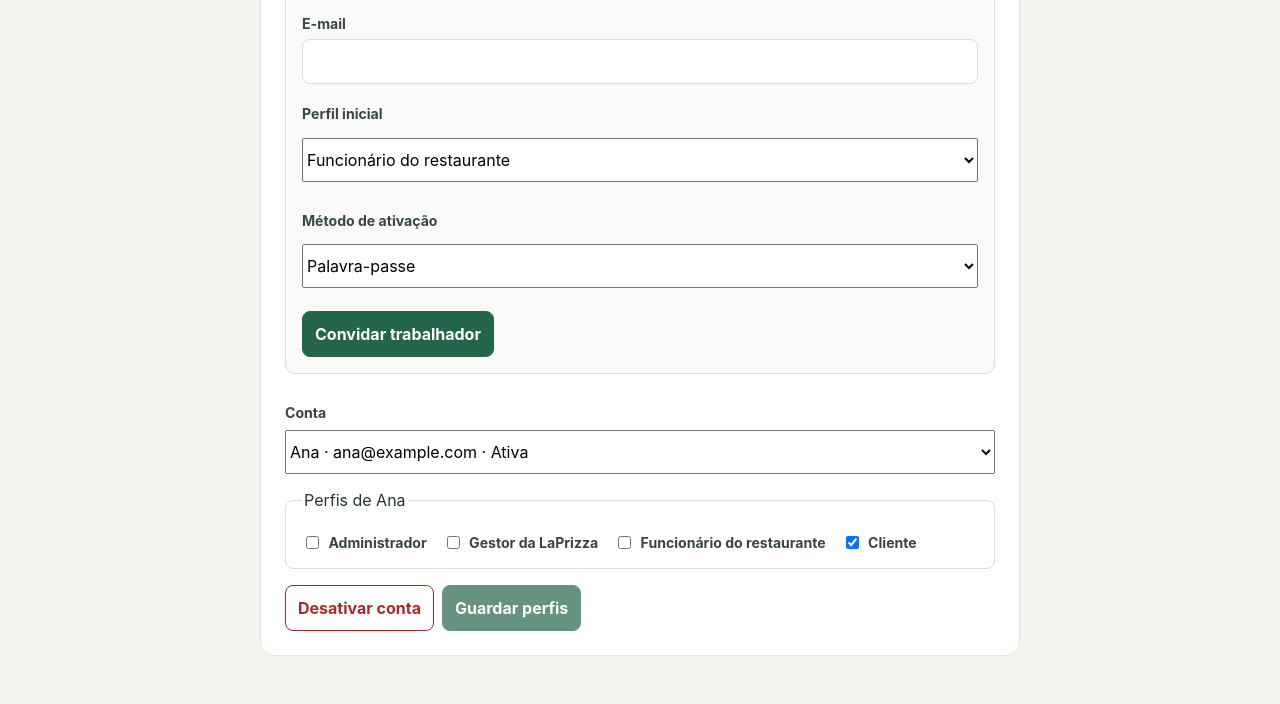
Test: clears already loaded accounts when the API later denies access
(page scrolled)
Expected: the dropdown with id "managed-user" is shown, 285,430 -> 995,474
Click the button "Desativar conta": (360,608) 285,586 -> 434,632
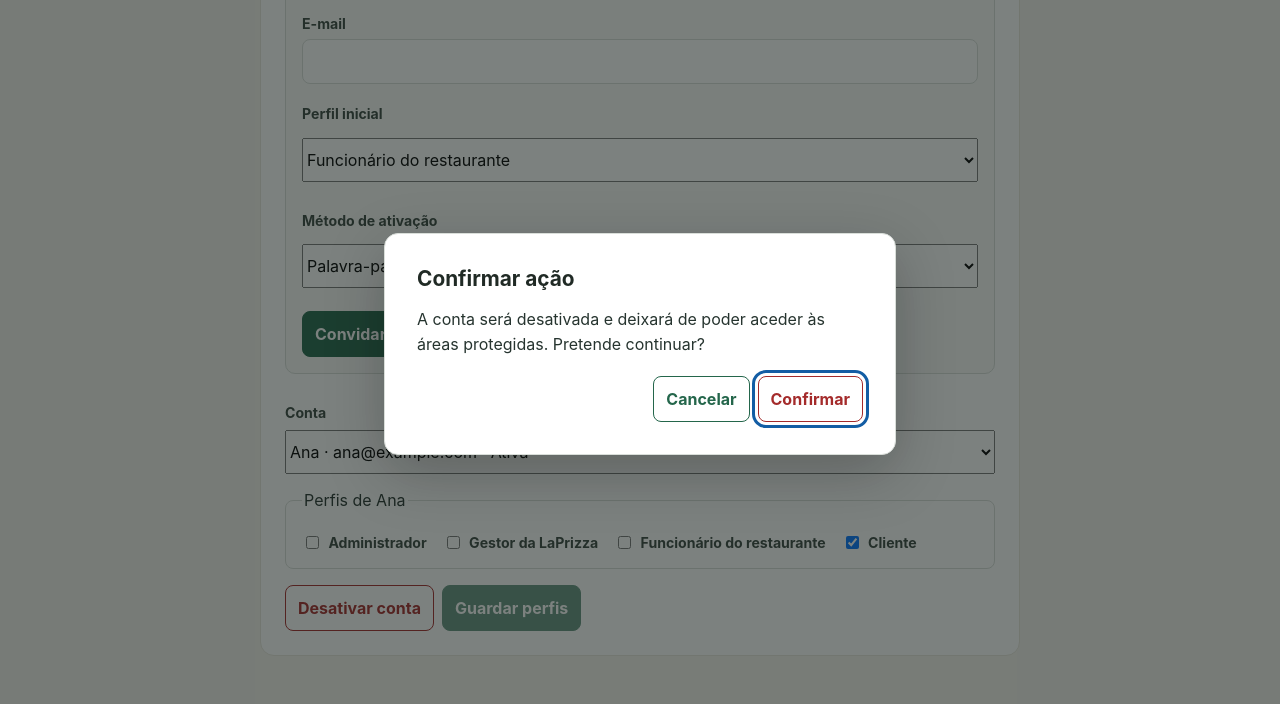
Click the button "Confirmar": (810,399) 758,376 -> 863,422
(page scrolled)
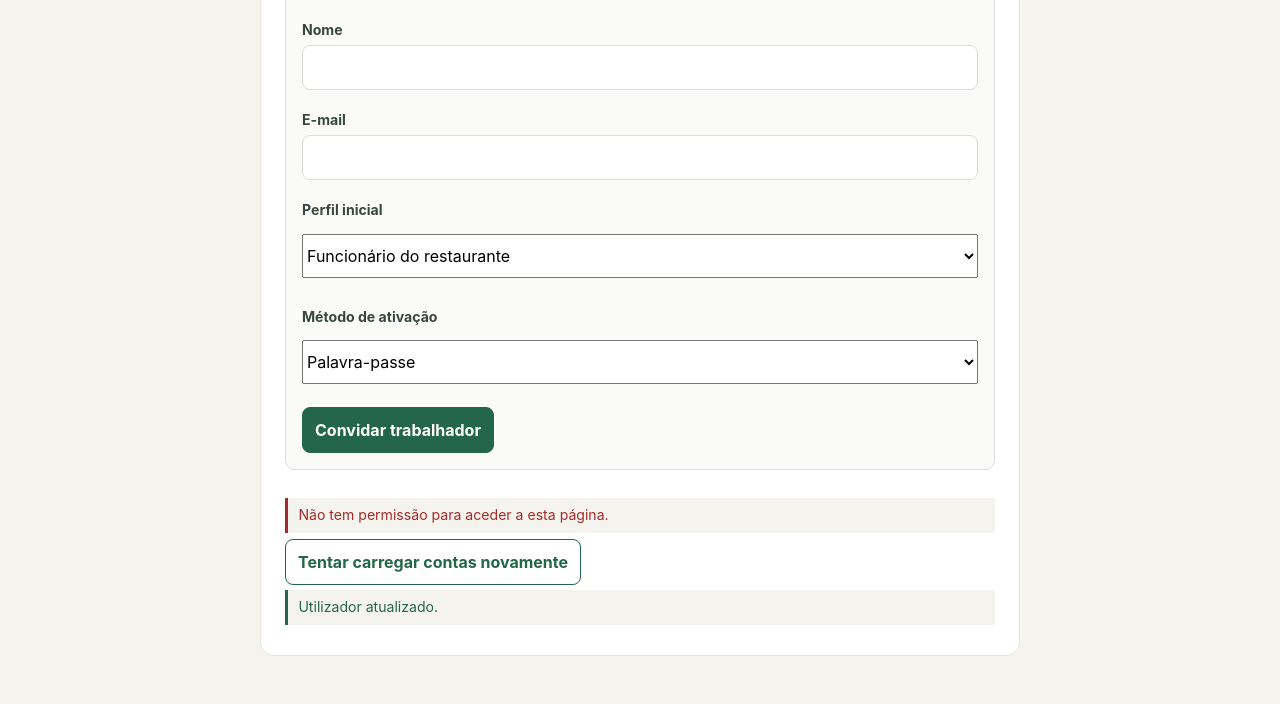
Result: the label with id "managed-user" is gone
Result: the message "Não tem permissão para aceder a esta página." is shown at 285,498 -> 995,533
